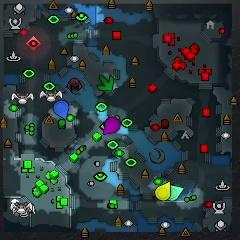p1: (53, 100, 68, 121)
p2: (171, 185, 184, 201)
p3: (103, 118, 120, 134)
p4: (155, 182, 171, 201)
x4: (98, 76, 113, 91)
